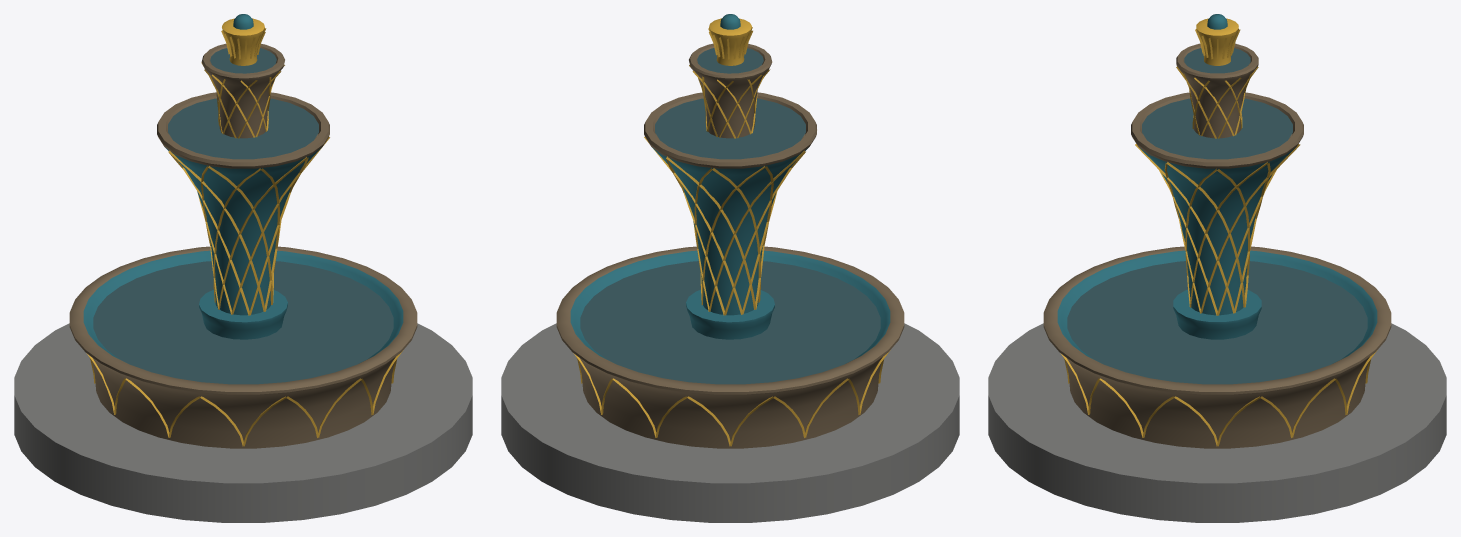
The model's file is mon_mosaikbrunnen.glb.
3 views of the same model, side by side, from view 1: azimuth 30°, elevation 25°; view 2: azimuth 150°, elevation 25°; view 3: azimuth 270°, elevation 25° (orthographic).
Parts seen in each view (by area): view 1: mon_mosaikbrunnen; view 2: mon_mosaikbrunnen; view 3: mon_mosaikbrunnen.
Part boxes in pixels (<box>): mon_mosaikbrunnen: <box>14,14,472,522</box>; mon_mosaikbrunnen: <box>501,14,959,522</box>; mon_mosaikbrunnen: <box>988,14,1446,522</box>.
Bounding box in the file's own units: 6.57 × 6.5 × 6.57.
